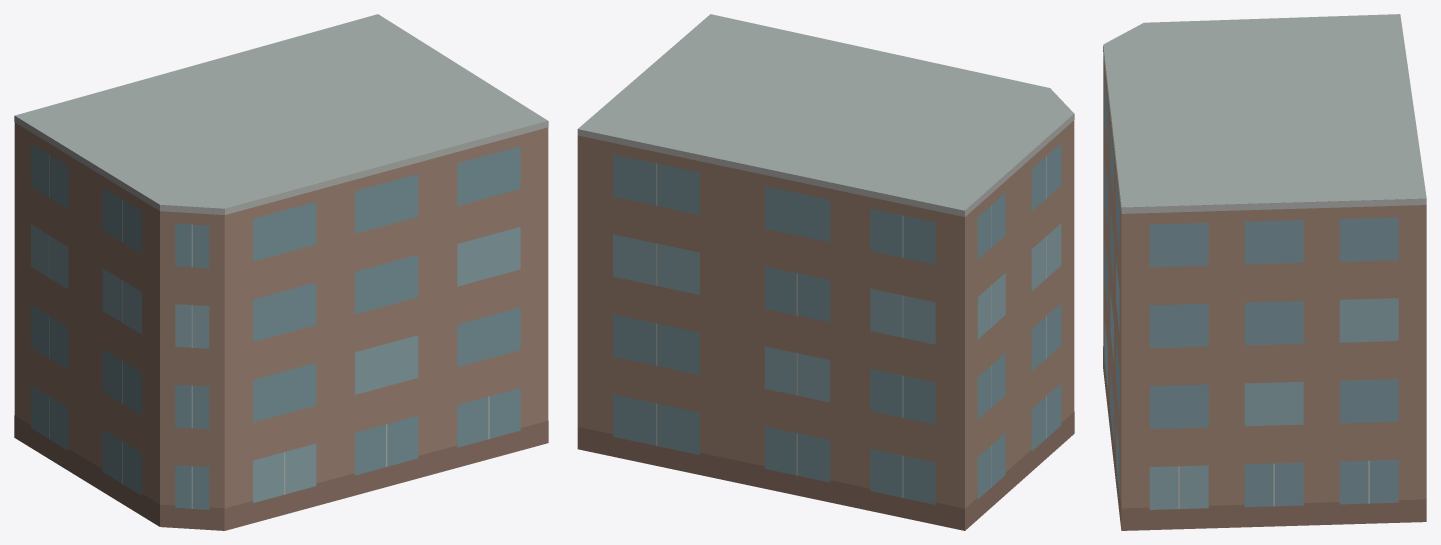
The model's file is survey-upis-32998204.glb.
The picture shows the model from 3 angles, left to right: view 1: azimuth 30°, elevation 25°; view 2: azimuth 150°, elevation 25°; view 3: azimuth 270°, elevation 25°; orthographic projection.
Parts seen in each view (by area): view 1: survey-upis-32998204.tmp; view 2: survey-upis-32998204.tmp; view 3: survey-upis-32998204.tmp.
Boxes of the visible parts, x1,y1,x2,y2 form: survey-upis-32998204.tmp: (14, 14, 548, 530); survey-upis-32998204.tmp: (577, 14, 1074, 530); survey-upis-32998204.tmp: (1103, 14, 1426, 530).
Bounding box in the file's own units: 15.74 × 12.26 × 11.13.
